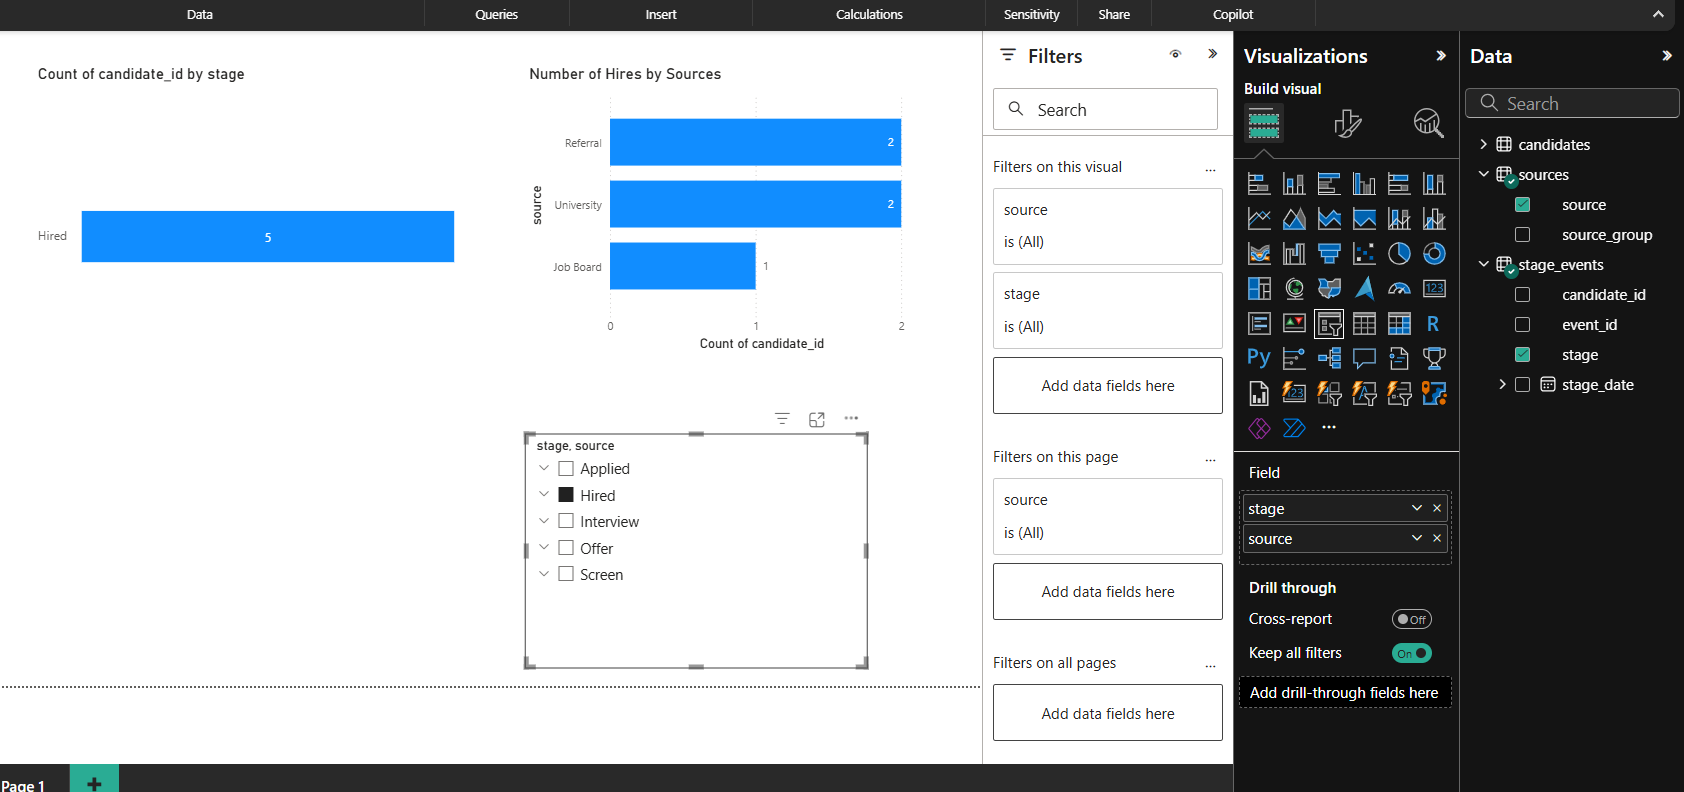

Layout of this report page (visuals, bound fields, positions):
{"tool":"powerbi","page":{"name":"Page 1","canvas":[1280,720],"ordinal":0},"visuals":[{"type":"funnel","fields":{"Y":["Count(stage_events.candidate_id)"],"Category":["stage_events.stage"]},"box":[10,0,280,280],"z":0},{"type":"slicer","fields":{"Values":["sources.source"]},"box":[10,290,280,280],"z":1000},{"type":"clusteredBarChart","title":"Number of Hires by Sources","fields":{"Category":["sources.source"],"Y":["Count(stage_events.candidate_id)"]},"box":[406.5,19.6,279.3,172.8],"z":2000}]}

Visuals, with their boxes on the page's 1280x720 design canvas (x1, y1, x2, y2). These are canvas units, not pixel positions in the 1684x792 screenshot, which may show the page scaled, cropped or inside an application window:
funnel - Count(stage_events.candidate_id) x stage_events.stage: bbox(10, 0, 290, 280)
slicer - sources.source: bbox(10, 290, 290, 570)
"Number of Hires by Sources" clusteredBarChart: bbox(406, 20, 686, 192)
